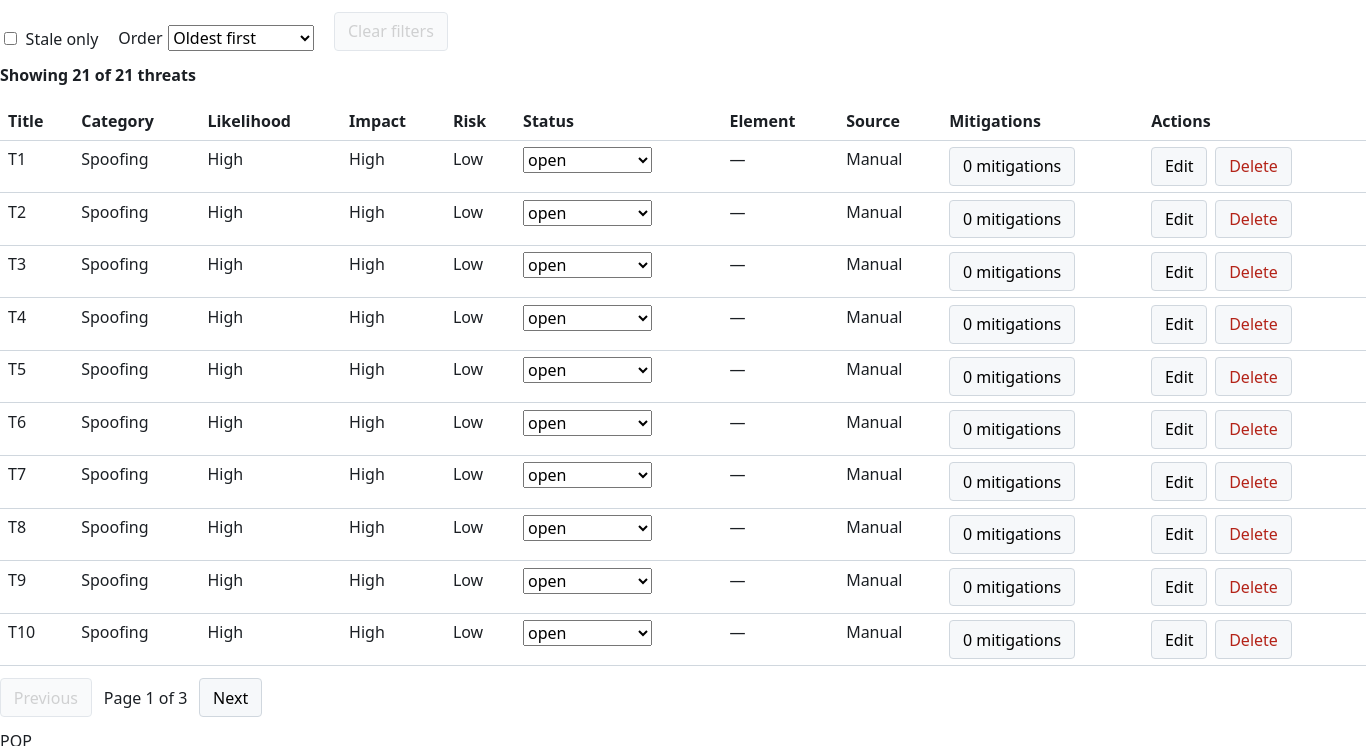
Scenario: pages (research #9) › moves to the last page that still exists when edits shrink the list
The width and height of the screenshot is (1366, 746).
(page scrolled)
Expected: the text "Page 1 of 3" is shown, [104,686,187,710]
Click the button "Next" at (231, 698), box [199,678,262,717]
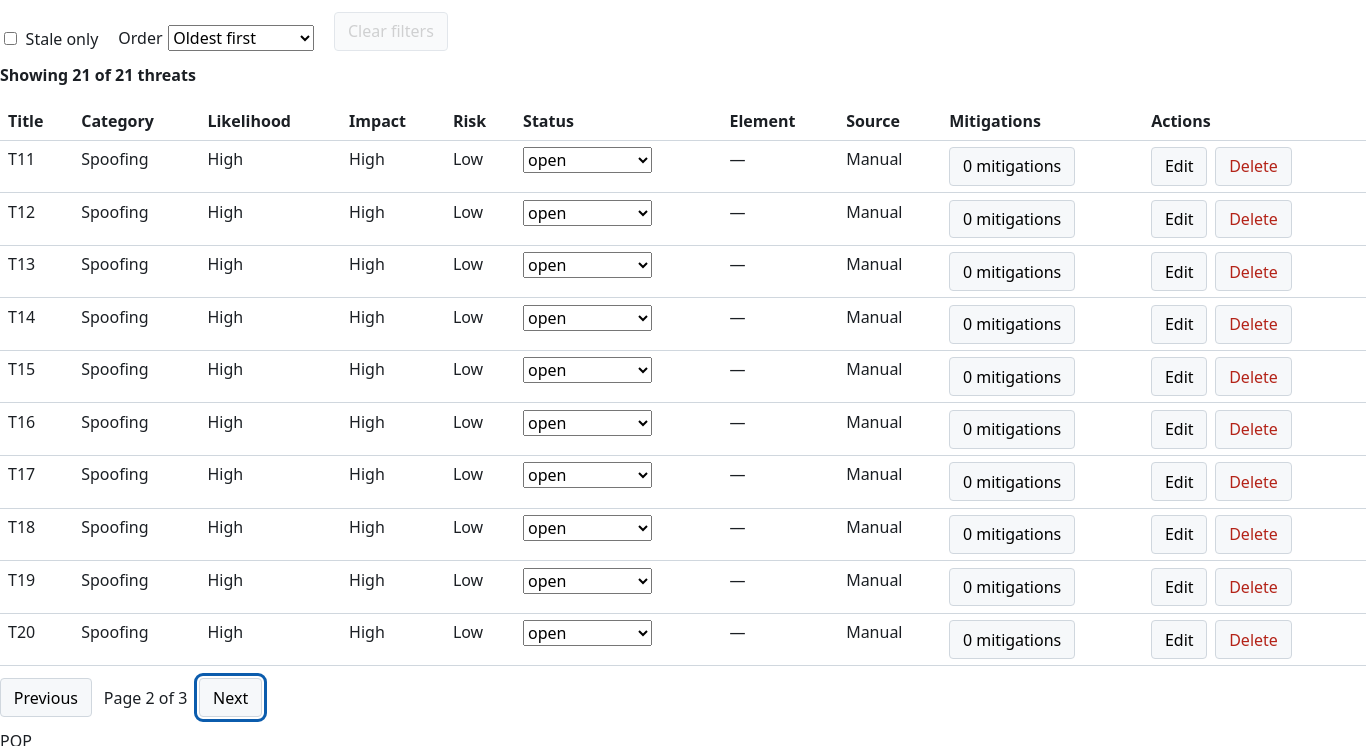
Click the button "Next" at (231, 698), box [199,678,262,717]
(page scrolled)
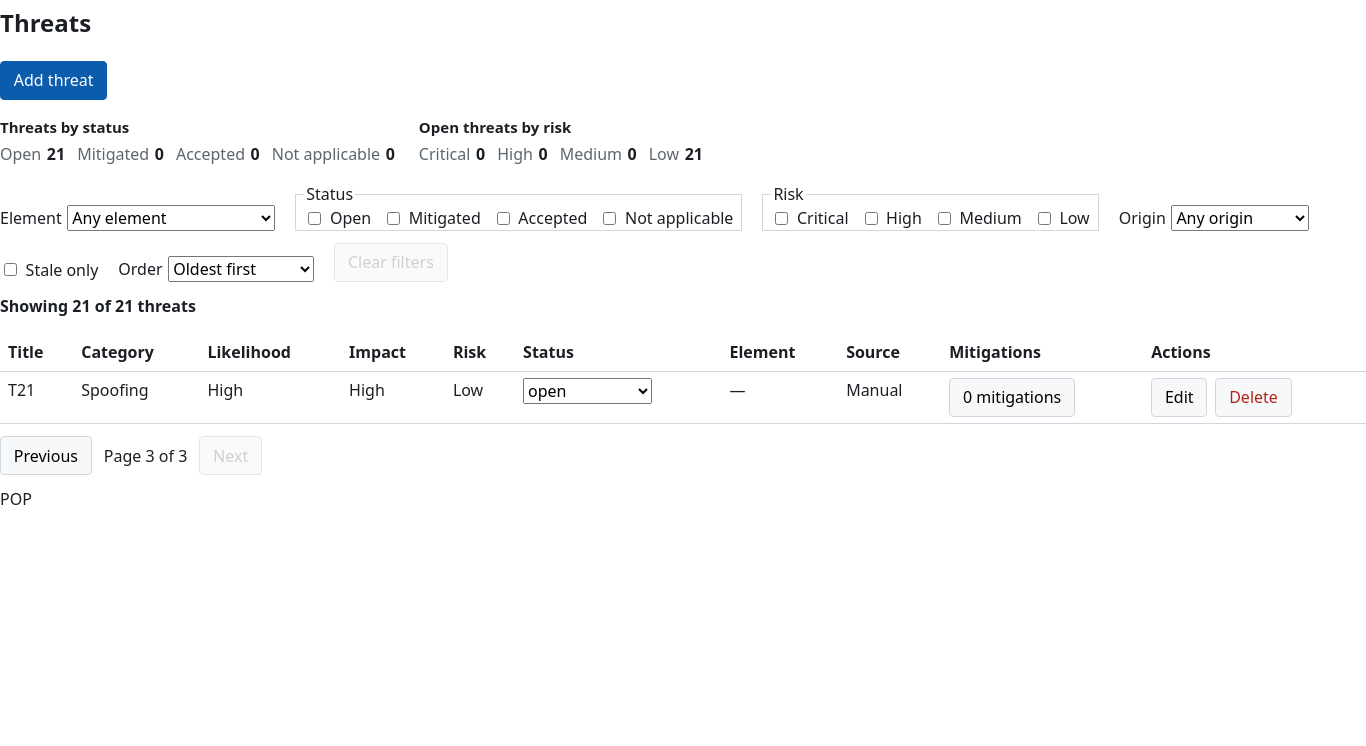
Click the button with aria-label "Delete threat T21" at (1254, 397), box [1215,378,1292,417]
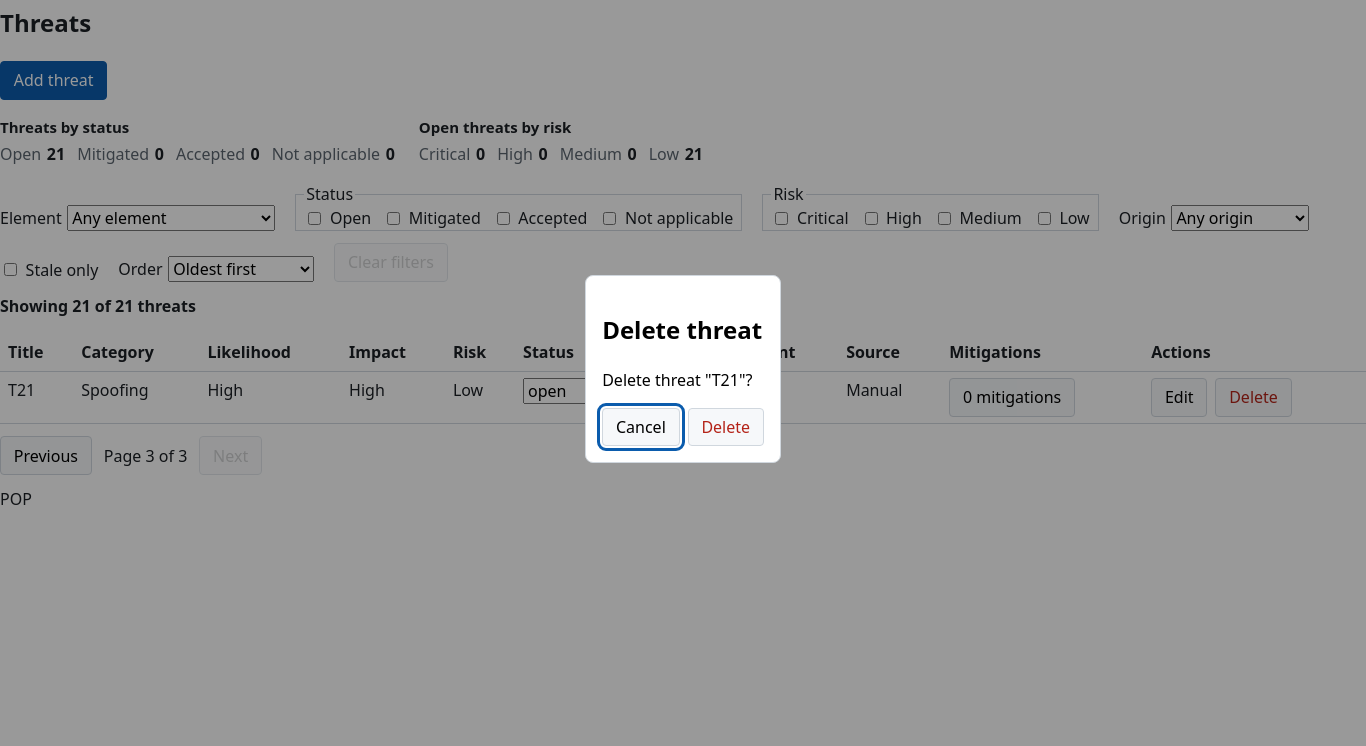
Click the button "Delete" at (726, 427), box [688,408,764,446]
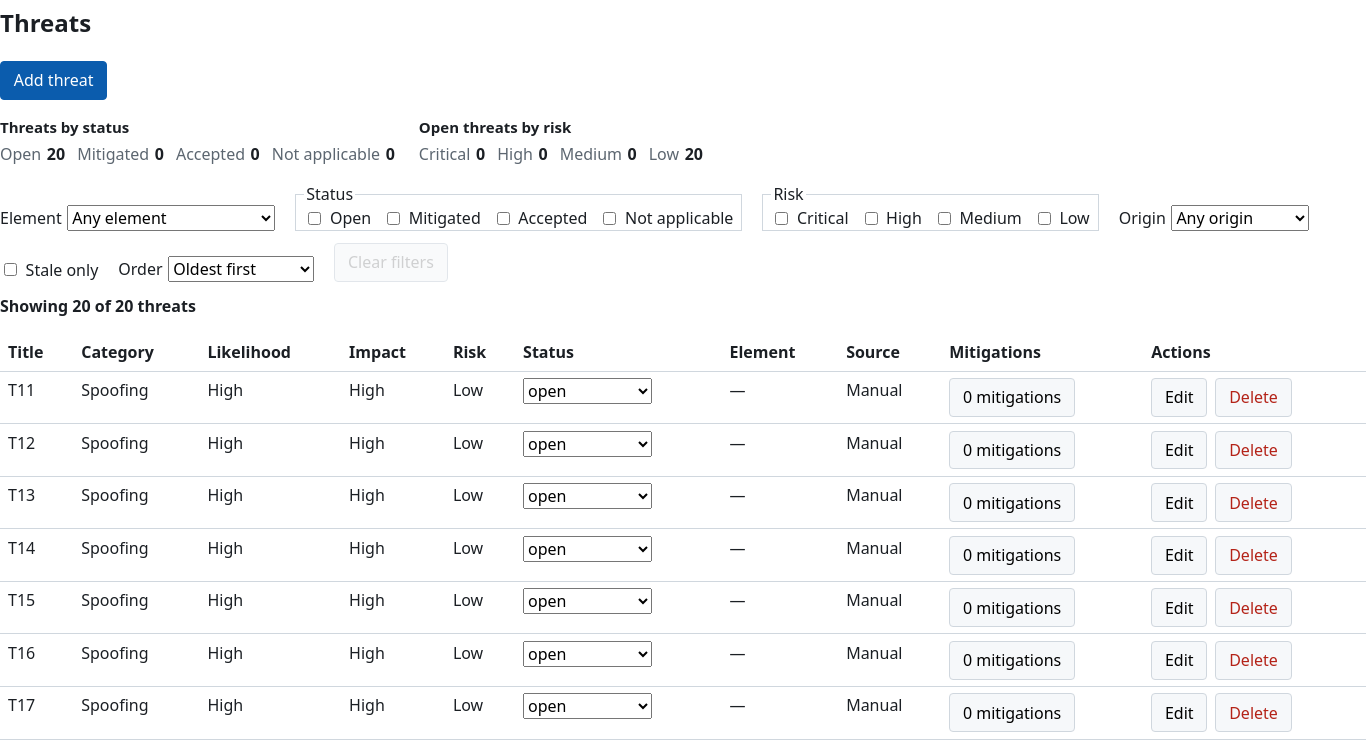
Result: the cell "T11" is shown at [0,371,73,424]
